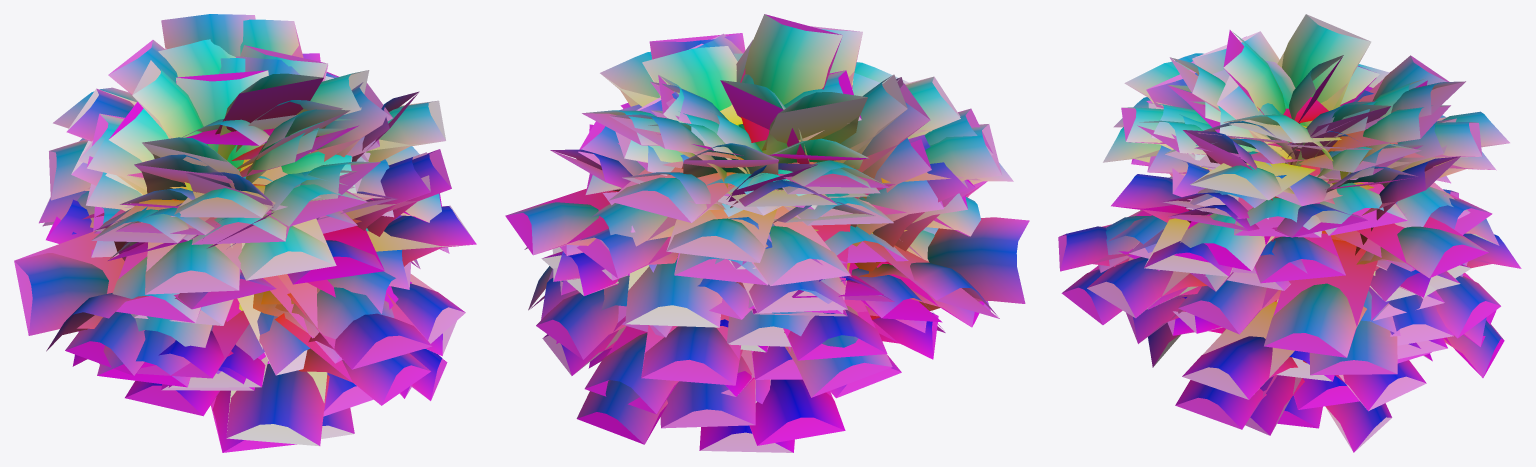
Rendered from elm_02_4.fbx.
3 views of the same model, side by side, from view 1: azimuth 30°, elevation 25°; view 2: azimuth 150°, elevation 25°; view 3: azimuth 270°, elevation 25° (orthographic). The views are drawn at different scales.
Parts seen in each view (by area): view 1: elm_rought_leaves_02_4_lod_0, elm_rought_leaves_02_4_shadow; view 2: elm_rought_leaves_02_4_lod_0, elm_rought_leaves_02_4_shadow; view 3: elm_rought_leaves_02_4_lod_0, elm_rought_leaves_02_4_shadow.
Part boxes in pixels (box(x1,y1,x2,y2)): elm_rought_leaves_02_4_lod_0: box(14, 14, 476, 452); elm_rought_leaves_02_4_shadow: box(14, 25, 474, 452); elm_rought_leaves_02_4_lod_0: box(506, 14, 1029, 452); elm_rought_leaves_02_4_shadow: box(505, 14, 1001, 452); elm_rought_leaves_02_4_lod_0: box(1059, 14, 1521, 452); elm_rought_leaves_02_4_shadow: box(1058, 14, 1511, 451).
Size of what is drawn, in the model's own units: 9 by 7.4 by 8.81.
